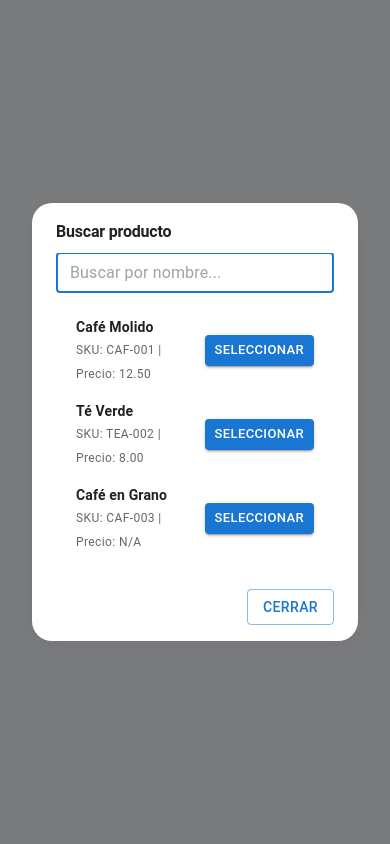
ModalBusquedaProducto › filtra por nombre case-insensitive al teclear
The image size is (390, 844).
Type "café" into the field with placeholder "Buscar por nombre...". click: (195, 272)
box: [56,252,334,292]
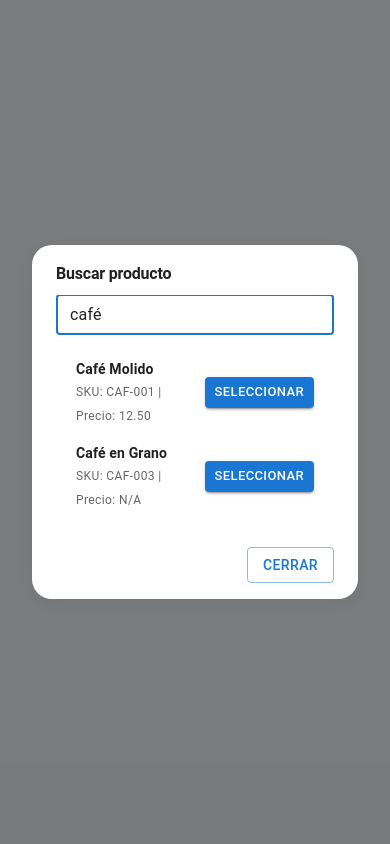
Expected: the text "Café Molido" is shown, [76,360,154,376]
Expected: the text "Café en Grano" is shown, [76,444,167,460]
Expected: the button "Té Verde" is gone
